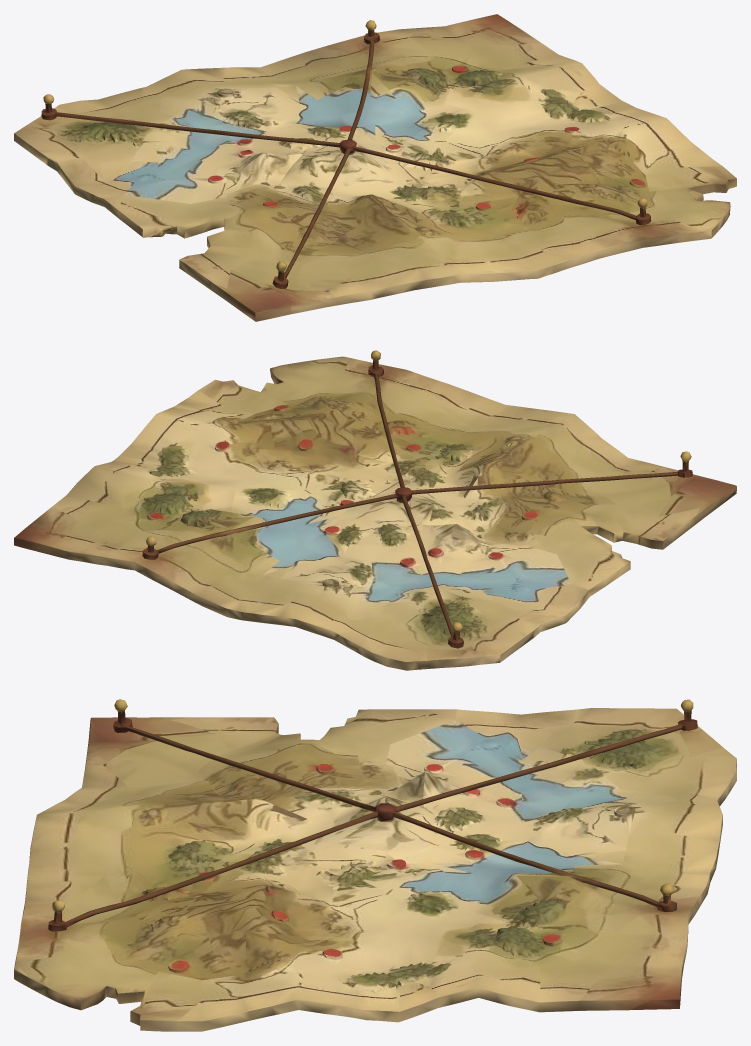
Rendered from decor_map_old_idle.glb.
3 renders of one model, top to bottom at view 1: azimuth 30°, elevation 25°; view 2: azimuth 150°, elevation 25°; view 3: azimuth 270°, elevation 25°, orthographic. The views are drawn at different scales.
Parts seen in each view (by area): view 1: tripo_node_f759eafd-f6c4-45ba-9fb7-692bf5b2afa0; view 2: tripo_node_f759eafd-f6c4-45ba-9fb7-692bf5b2afa0; view 3: tripo_node_f759eafd-f6c4-45ba-9fb7-692bf5b2afa0.
Part boxes in pixels (left/top/right/bottom): tripo_node_f759eafd-f6c4-45ba-9fb7-692bf5b2afa0: left=14, top=14, right=736, bottom=321; tripo_node_f759eafd-f6c4-45ba-9fb7-692bf5b2afa0: left=14, top=350, right=736, bottom=670; tripo_node_f759eafd-f6c4-45ba-9fb7-692bf5b2afa0: left=14, top=699, right=736, bottom=1031.
Size of the model in its own units: 0.5999 by 0.0523 by 0.6017.
1 material, 1 textured.
